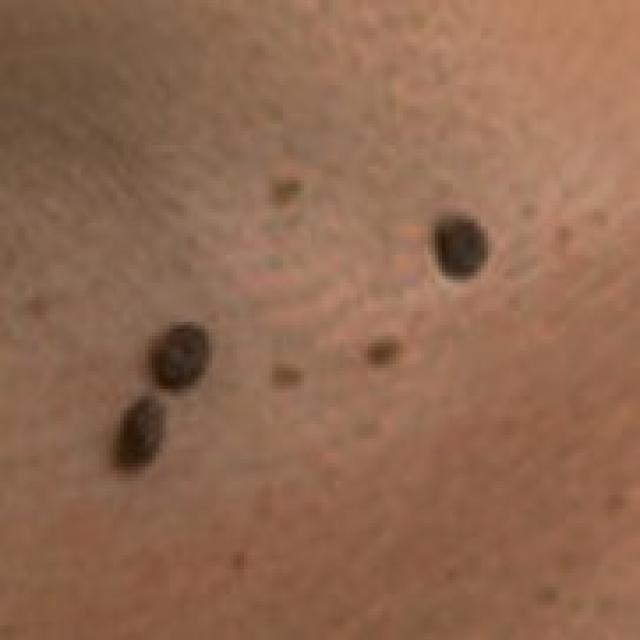wart: (144, 318, 220, 389), (424, 208, 488, 276), (110, 399, 173, 466)
